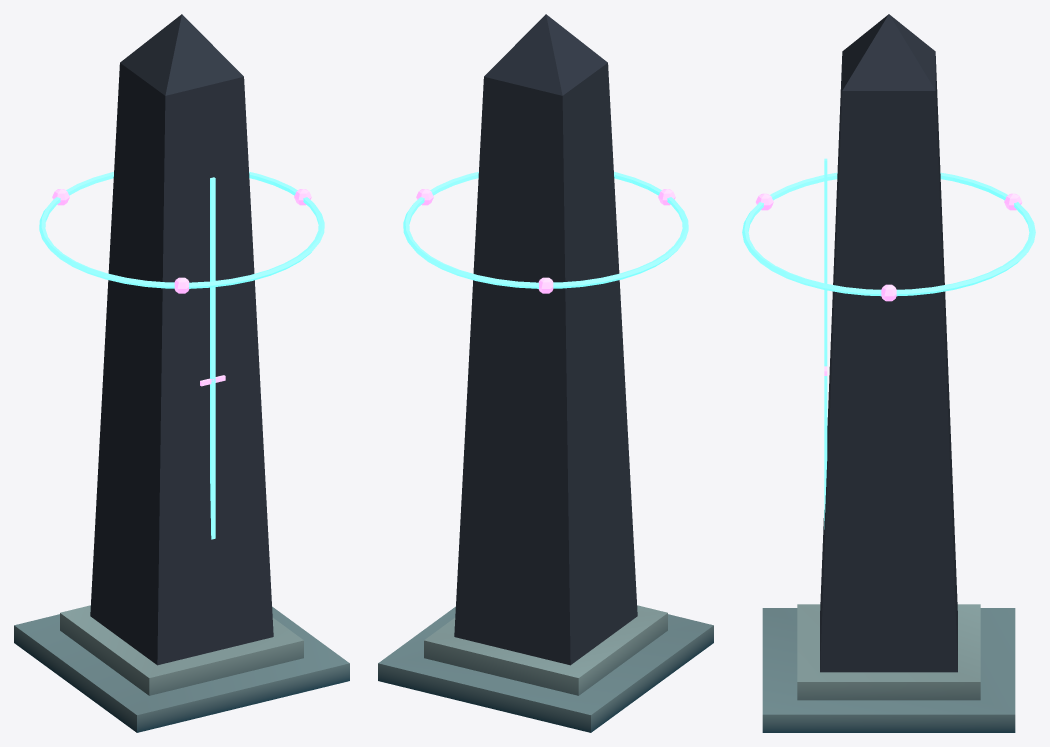
Rendered from prop_abyss_monolith.glb.
The picture shows the model from 3 angles, left to right: view 1: azimuth 30°, elevation 25°; view 2: azimuth 150°, elevation 25°; view 3: azimuth 270°, elevation 25°; orthographic projection. The views are drawn at different scales.
Visible parts, largest first — view 1: prop_abyss_monolith_obs, prop_abyss_monolith_stone, prop_abyss_monolith_glow, prop_abyss_monolith_lume; view 2: prop_abyss_monolith_obs, prop_abyss_monolith_stone, prop_abyss_monolith_glow, prop_abyss_monolith_lume; view 3: prop_abyss_monolith_obs, prop_abyss_monolith_stone, prop_abyss_monolith_glow, prop_abyss_monolith_lume.
Boxes of the visible parts, box(x1,y1,x2,y2) form: prop_abyss_monolith_obs: box(90, 14, 273, 665); prop_abyss_monolith_stone: box(14, 605, 349, 732); prop_abyss_monolith_glow: box(39, 171, 324, 539); prop_abyss_monolith_lume: box(52, 189, 311, 386); prop_abyss_monolith_obs: box(454, 14, 637, 665); prop_abyss_monolith_stone: box(378, 605, 713, 732); prop_abyss_monolith_glow: box(403, 171, 688, 288); prop_abyss_monolith_lume: box(416, 189, 675, 293); prop_abyss_monolith_obs: box(820, 14, 957, 672); prop_abyss_monolith_stone: box(762, 604, 1015, 732); prop_abyss_monolith_glow: box(742, 158, 1035, 529); prop_abyss_monolith_lume: box(755, 193, 1022, 375).
Size of the model in its own units: 5.2 by 12.8 by 5.12.
